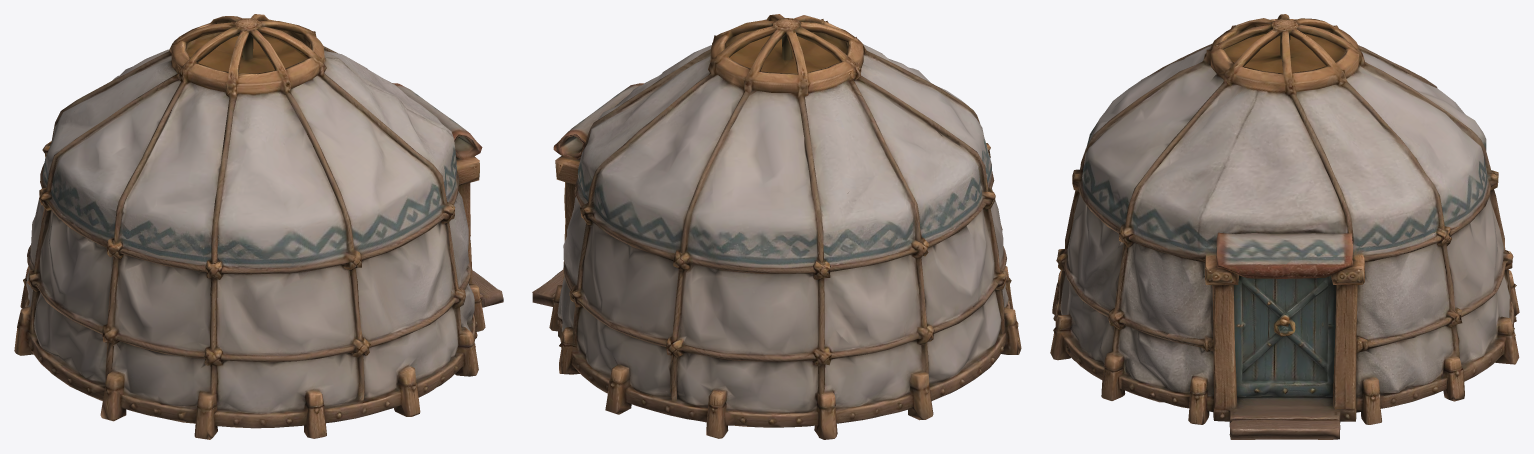
Rendered from yurt-sv1.glb.
3 views of the same model, side by side, from view 1: azimuth 30°, elevation 25°; view 2: azimuth 150°, elevation 25°; view 3: azimuth 270°, elevation 25° (orthographic). The views are drawn at different scales.
Parts seen in each view (by area): view 1: tripo_node_28fa39a3-1e44-4e2d-804b-d847c70bda77; view 2: tripo_node_28fa39a3-1e44-4e2d-804b-d847c70bda77; view 3: tripo_node_28fa39a3-1e44-4e2d-804b-d847c70bda77.
Boxes of the visible parts, box(x1,y1,x2,y2) form: tripo_node_28fa39a3-1e44-4e2d-804b-d847c70bda77: box(14, 14, 503, 439); tripo_node_28fa39a3-1e44-4e2d-804b-d847c70bda77: box(532, 14, 1021, 439); tripo_node_28fa39a3-1e44-4e2d-804b-d847c70bda77: box(1050, 14, 1519, 439).
Bounding box in the file's own units: 1 × 0.7179 × 0.9808.
Materials: 1 (1 with a texture image).
